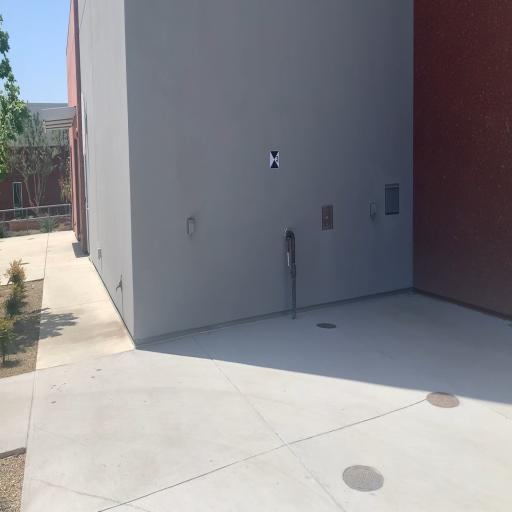target3: (270, 150, 280, 169)
